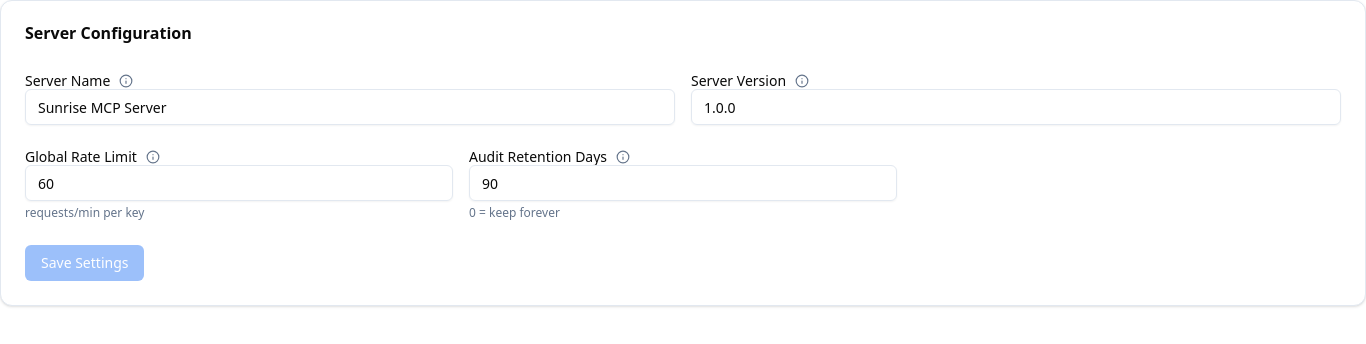
Scenario: McpSettingsForm validation and saved indicator › shows "globalRateLimit" error for invalid value 0: Min 1
The image size is (1366, 344).
Step 1. Replace the text in the number field with id "globalRateLimit" with "0" → (239, 183), box [25, 165, 453, 201]
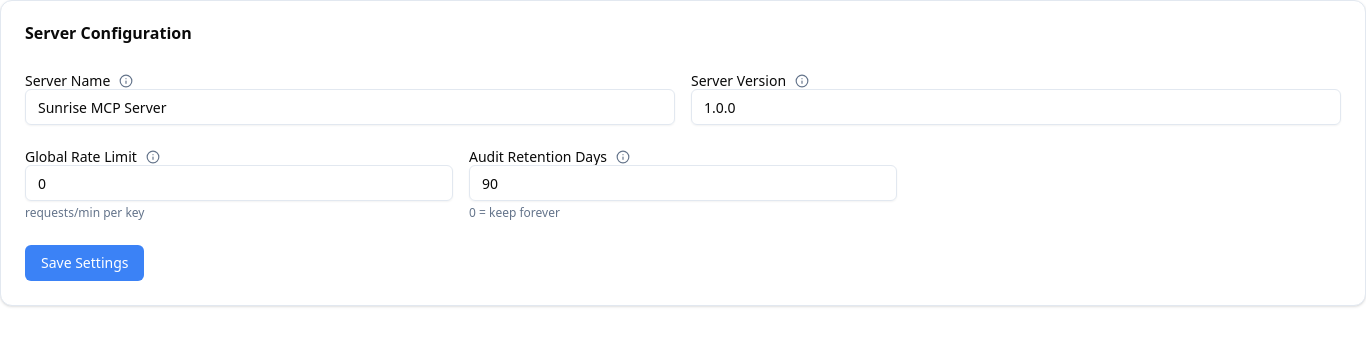
Step 2. Submit the form named "save settings"
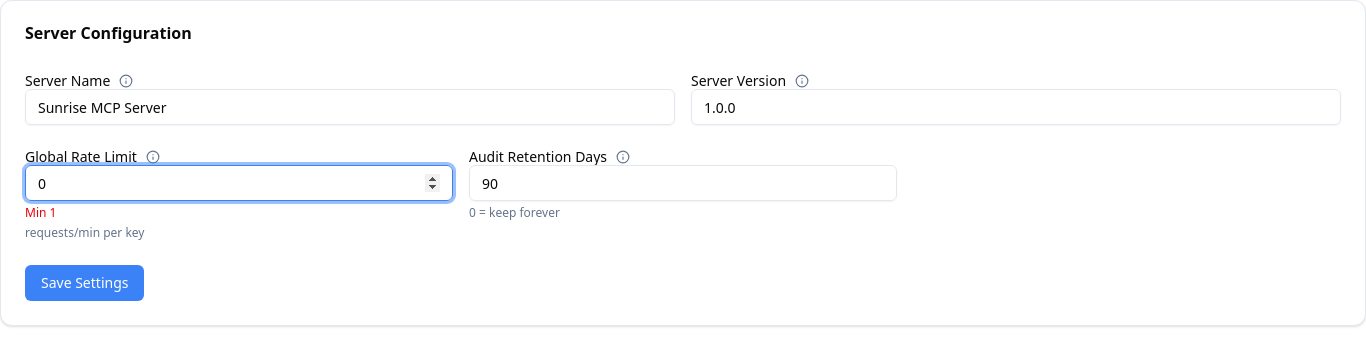
Expected: the text "Min 1" is shown, [25, 204, 56, 221]
